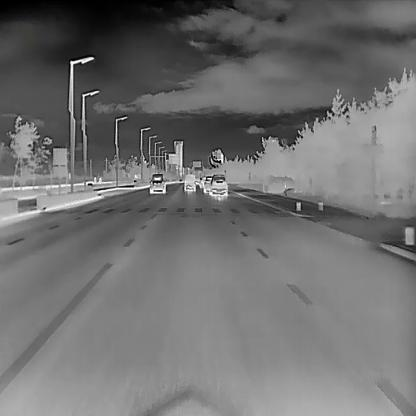car: (209, 174, 228, 196), (149, 173, 167, 194), (183, 172, 195, 193), (203, 176, 213, 193), (199, 175, 208, 188)
